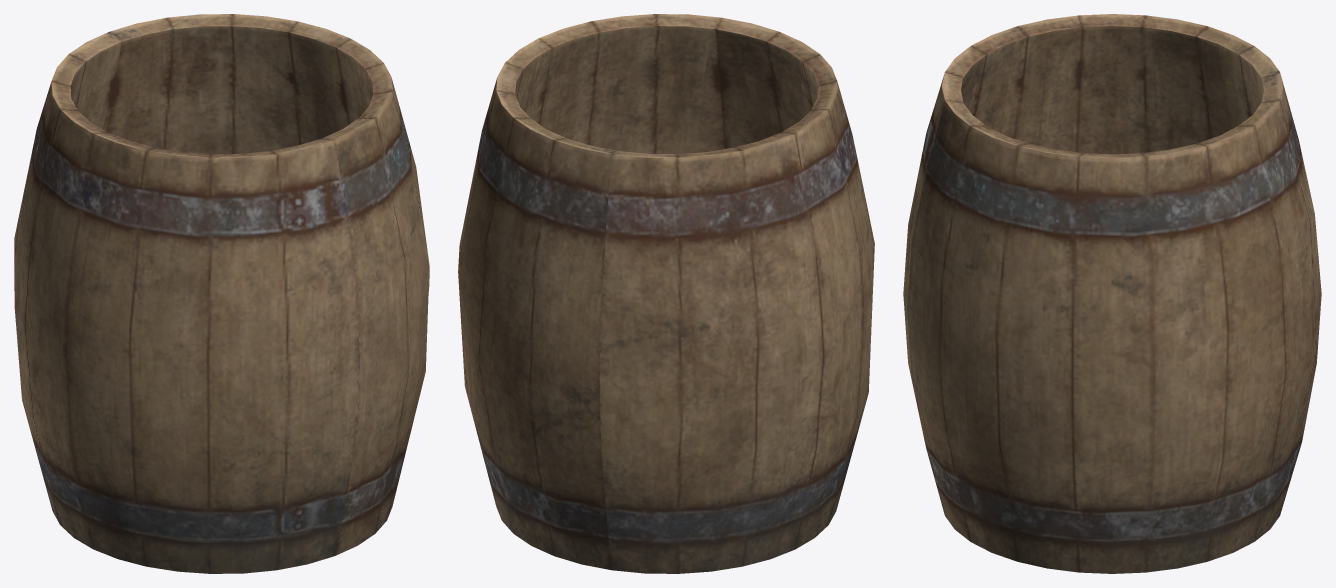
File: barrel1.obj
The picture shows the model from 3 angles, left to right: view 1: azimuth 30°, elevation 25°; view 2: azimuth 150°, elevation 25°; view 3: azimuth 270°, elevation 25°; orthographic projection.
Parts seen in each view (by area): view 1: barrel_big; view 2: barrel_big; view 3: barrel_big.
Boxes of the visible parts, <box> form: barrel_big: <box>14,14,429,573</box>; barrel_big: <box>458,14,874,573</box>; barrel_big: <box>903,14,1321,573</box>.
Size of the model in its own units: 0.3255 by 0.3568 by 0.3255.
